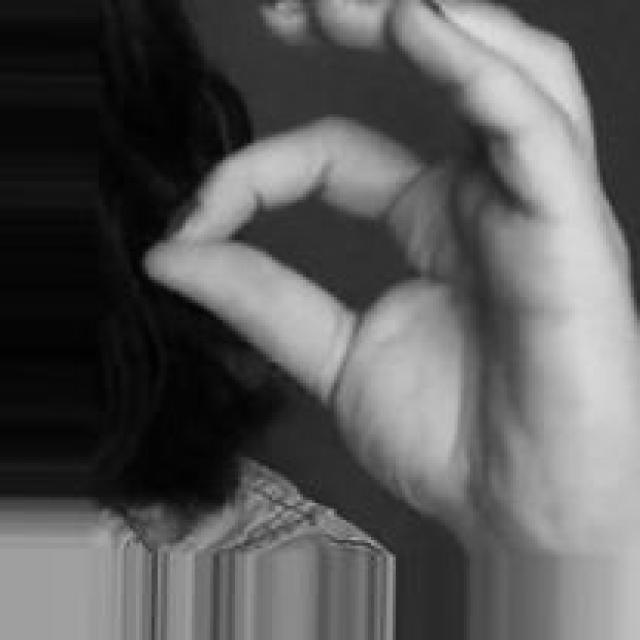O: (133, 0, 637, 563)
